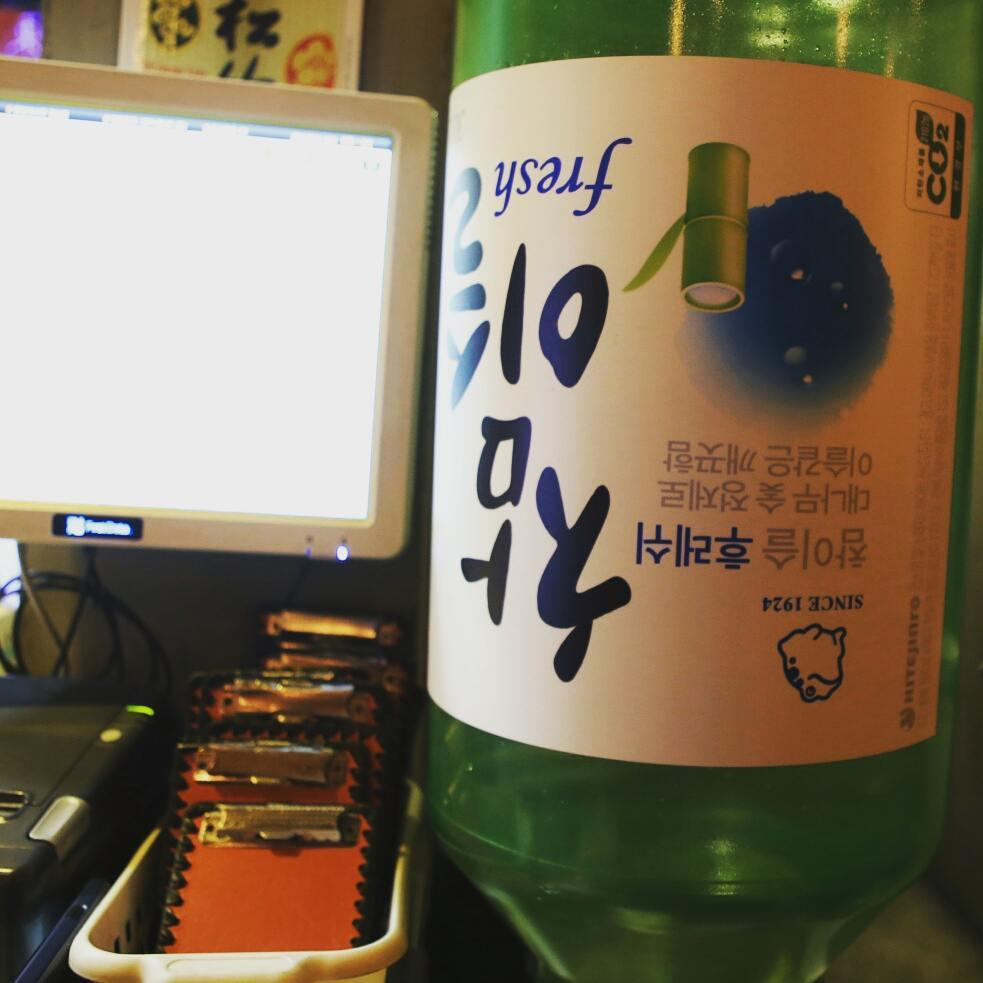soju: (426, 17, 981, 968)
